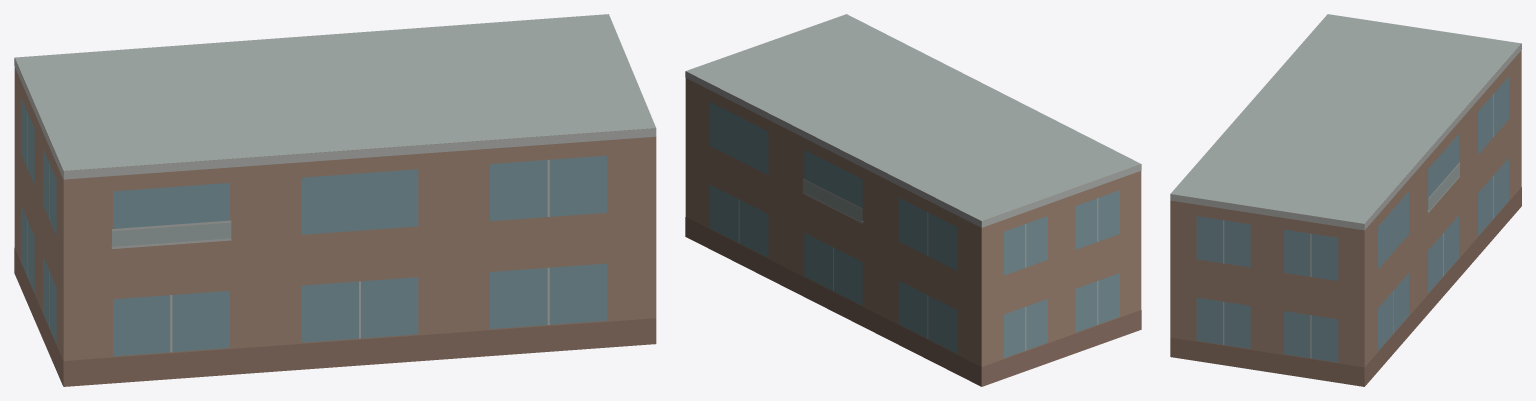
File: survey-upis-32958164.glb
The picture shows the model from 3 angles, left to right: view 1: azimuth 30°, elevation 25°; view 2: azimuth 150°, elevation 25°; view 3: azimuth 270°, elevation 25°; orthographic projection. The views are drawn at different scales.
Visible parts, largest first — view 1: survey-upis-32958164.tmp; view 2: survey-upis-32958164.tmp; view 3: survey-upis-32958164.tmp.
Boxes of the visible parts, x1,y1,x2,y2 form: survey-upis-32958164.tmp: [14, 14, 656, 386]; survey-upis-32958164.tmp: [685, 14, 1141, 386]; survey-upis-32958164.tmp: [1170, 14, 1521, 386].
Size of the model in its own units: 16.86 by 6.1 by 11.93.
